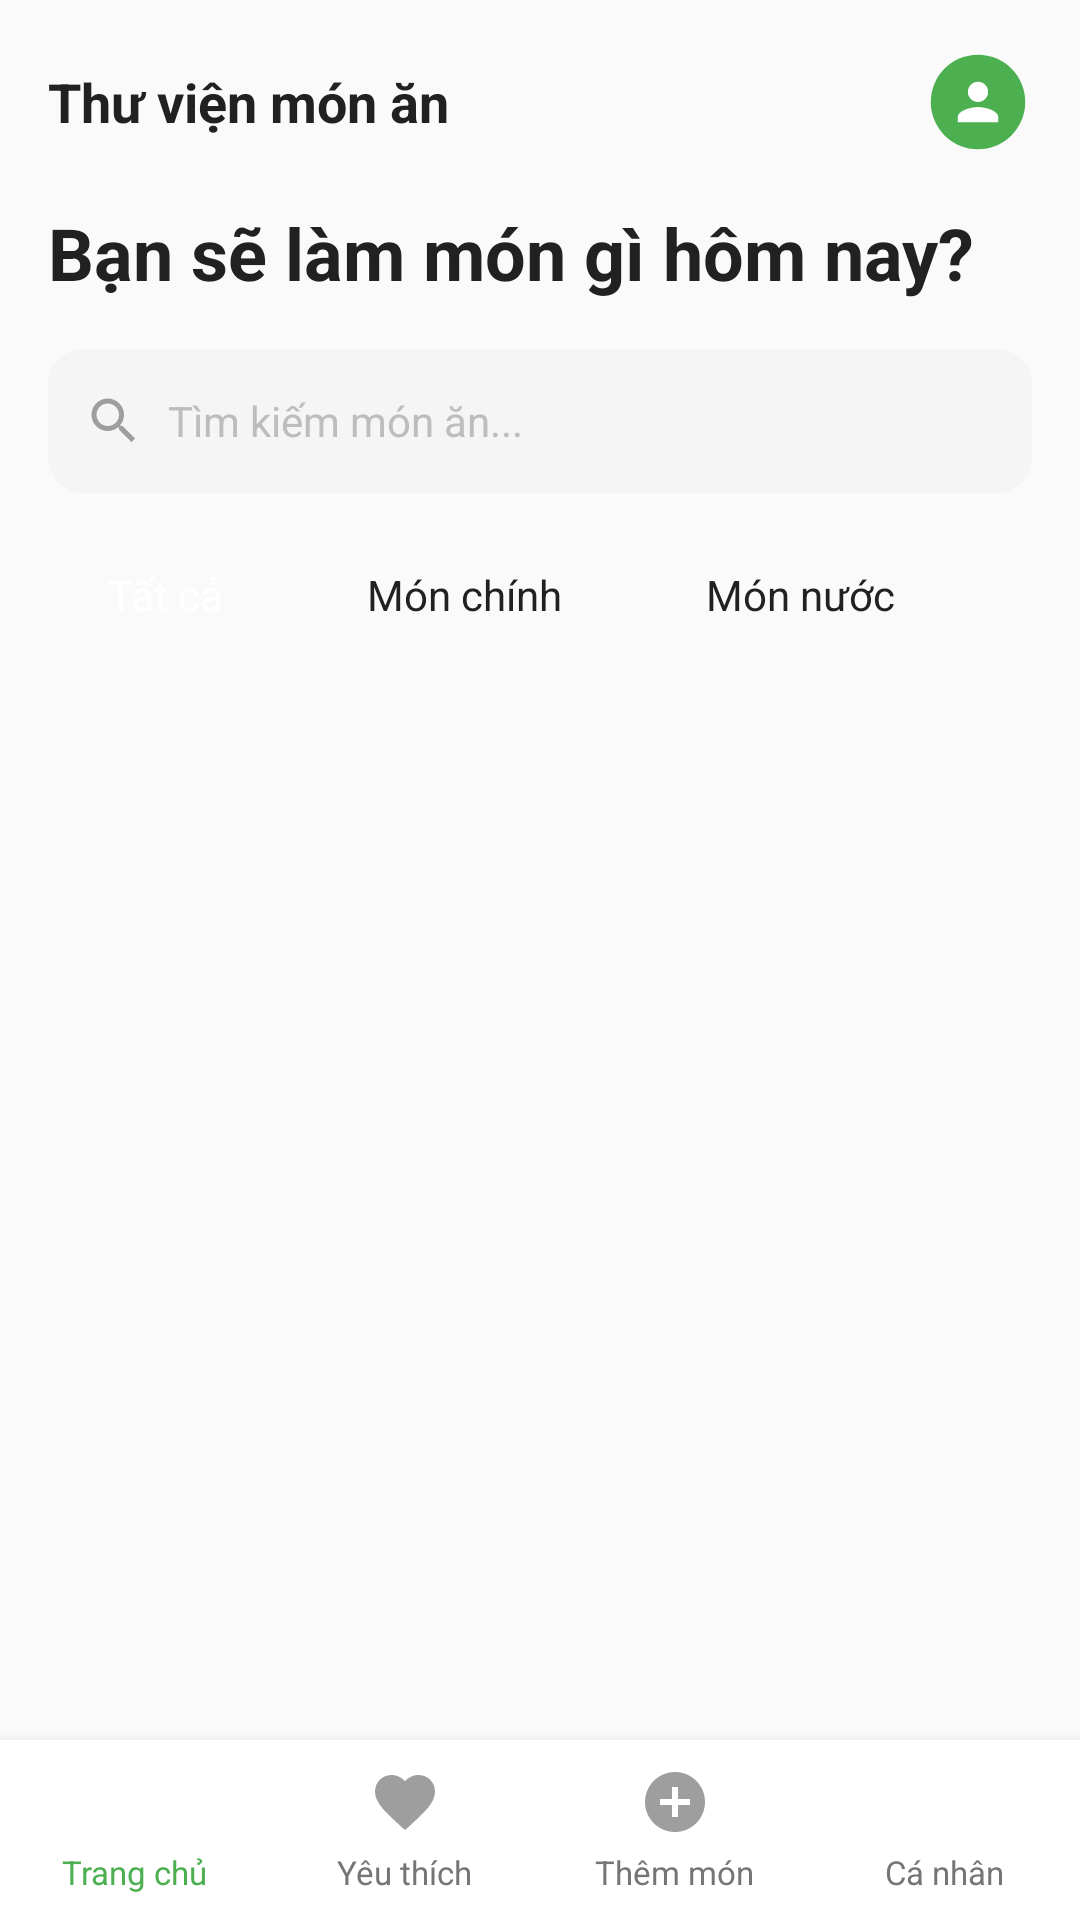

Named icons in this screenshot (1080 × 1920) and their bounding boxes, (x1, y1, x2, y2):
profile: (930, 54, 1026, 150)
Search: (91, 398, 135, 442)
